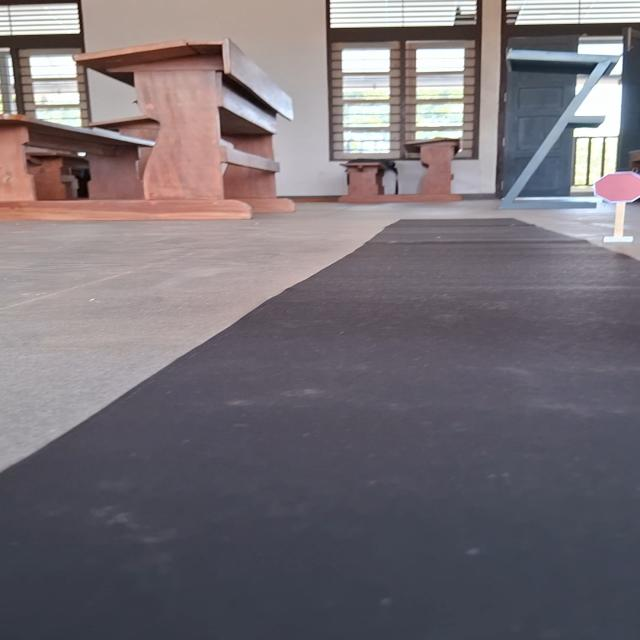Stop: (589, 170, 640, 203)
